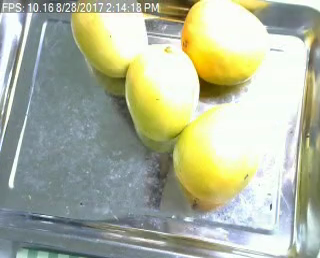Mango: (171, 104, 263, 199), (181, 0, 269, 86), (122, 44, 198, 142), (69, 1, 149, 75)
